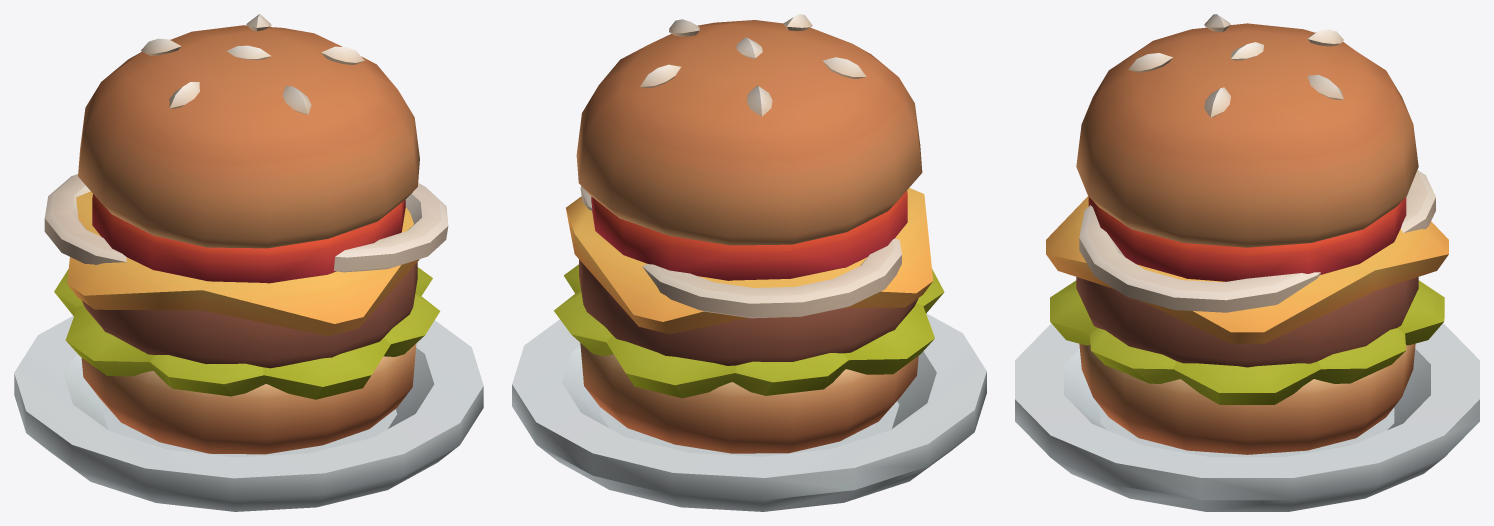
Rendered from burger.glb.
3 views of the same model, side by side, from view 1: azimuth 30°, elevation 25°; view 2: azimuth 150°, elevation 25°; view 3: azimuth 270°, elevation 25° (orthographic).
Visible parts, largest first — view 1: food_burger; view 2: food_burger; view 3: food_burger.
Part boxes in pixels (left/top/right/bottom): food_burger: left=14, top=14, right=483, bottom=511; food_burger: left=512, top=14, right=986, bottom=511; food_burger: left=1015, top=14, right=1479, bottom=511.
Size of the model in its own units: 0.95 by 0.8572 by 0.95.
Materials: 1 (1 with a texture image).
